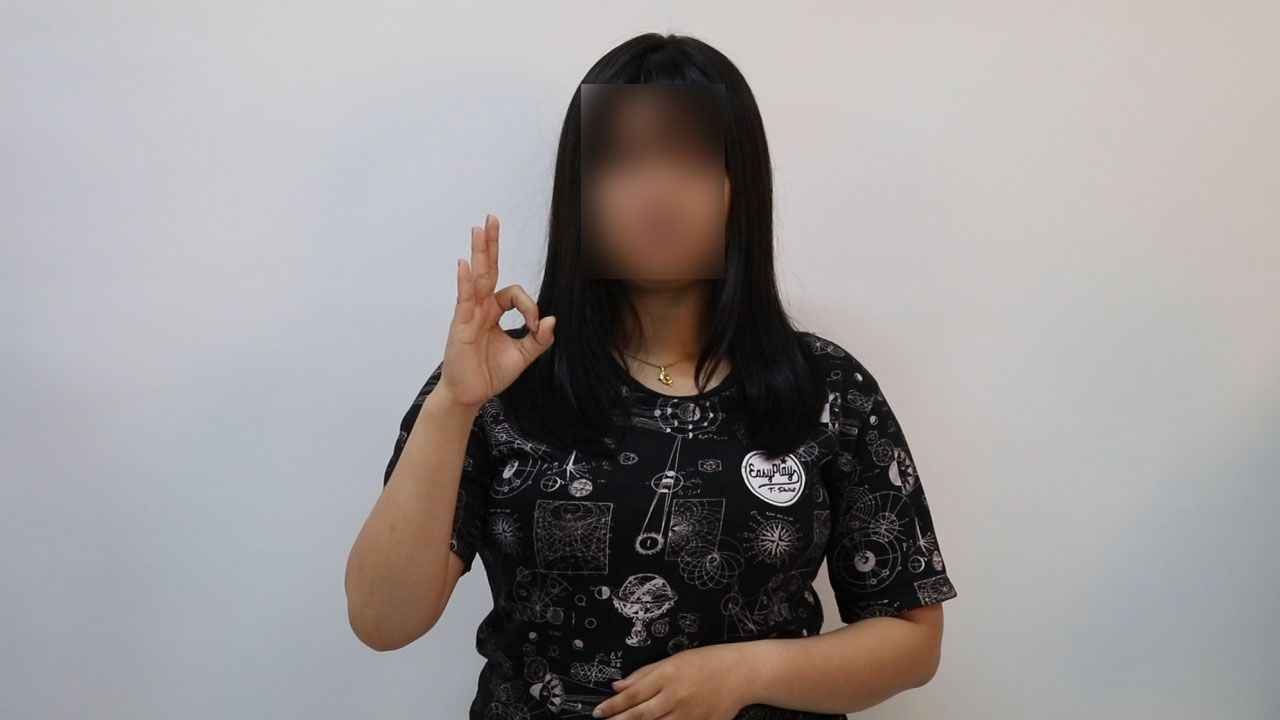for: (412, 199, 562, 416)
